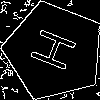H: (29, 26, 87, 77)
